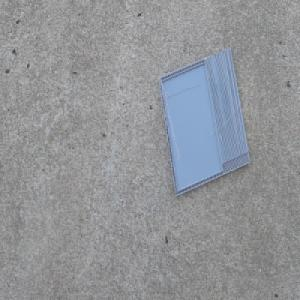PlasticPart: (157, 46, 250, 197)
